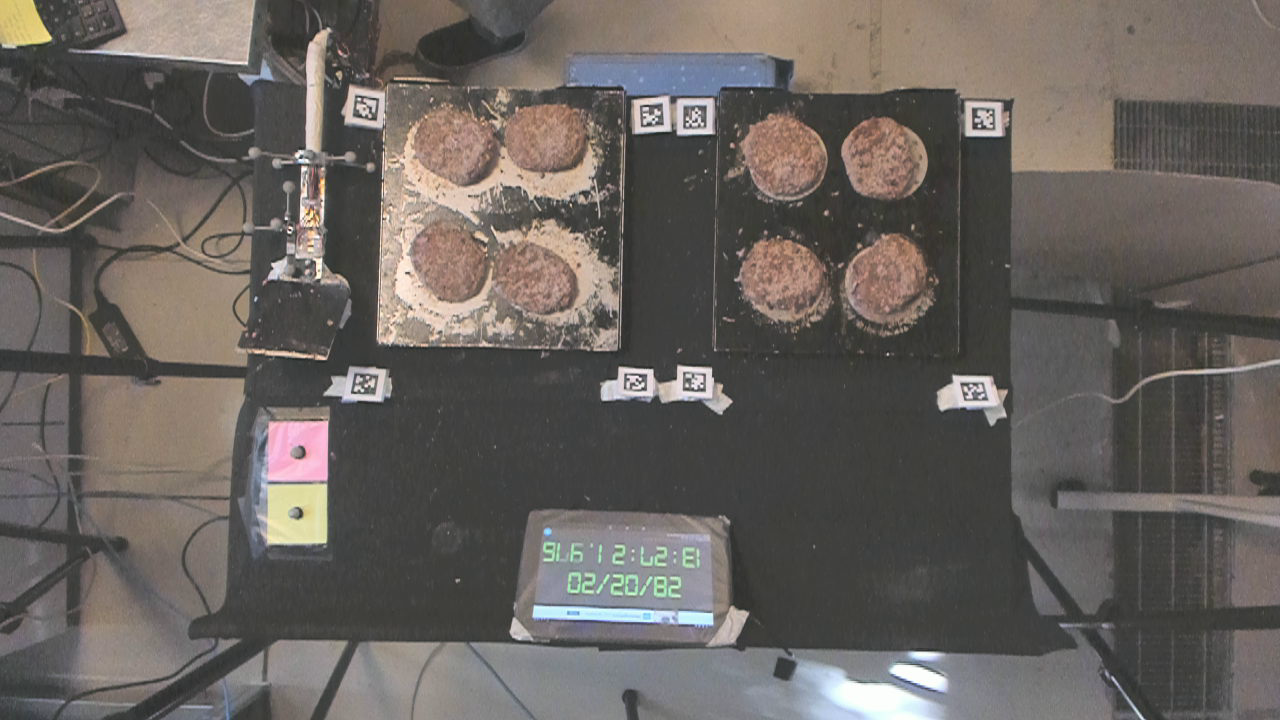hamburger: (734, 106, 830, 193), (848, 231, 933, 319), (411, 103, 494, 188), (733, 241, 828, 311), (492, 243, 581, 317), (415, 219, 490, 302), (846, 116, 920, 200), (504, 103, 588, 168)
marker: (266, 419, 329, 481)
